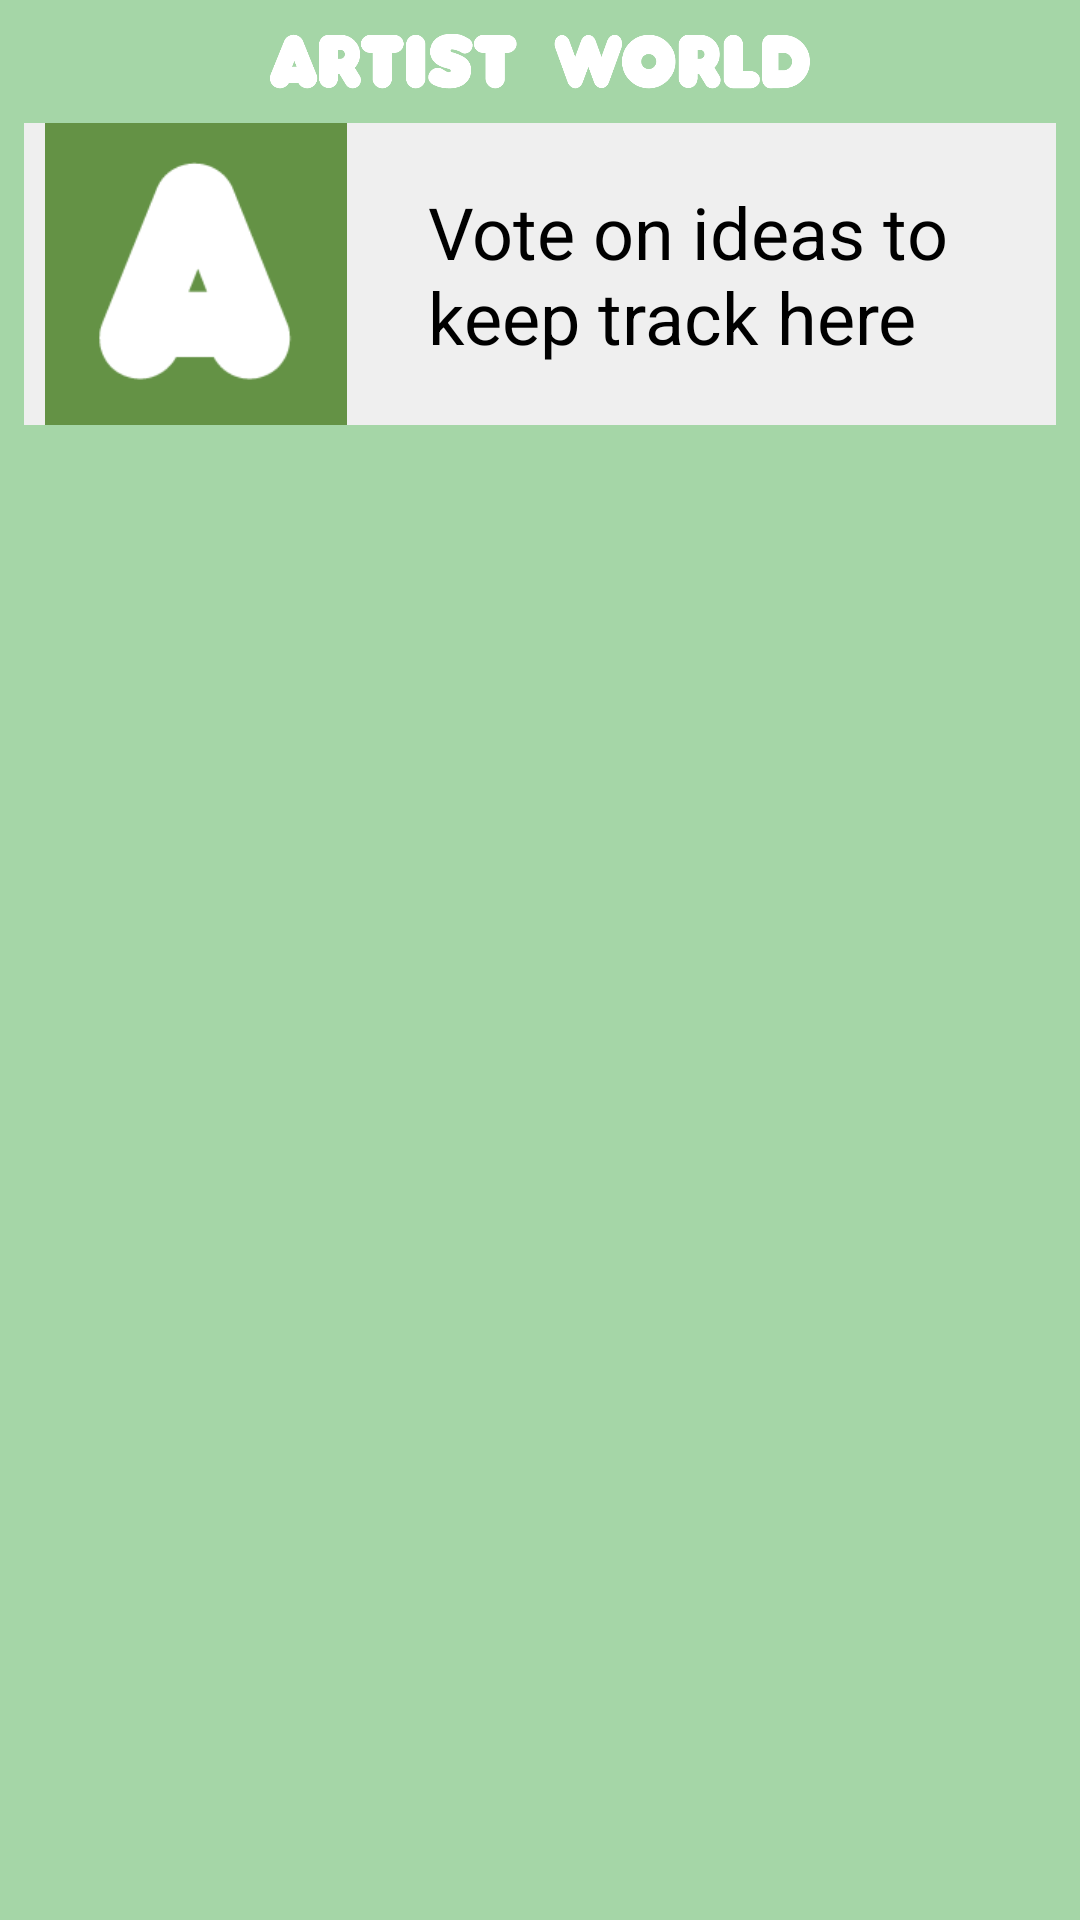

Icons on this 1080px×1920px Android screen, each with its box as (x1, y1, x2, y2):
Project main image: (24, 123, 368, 425)
